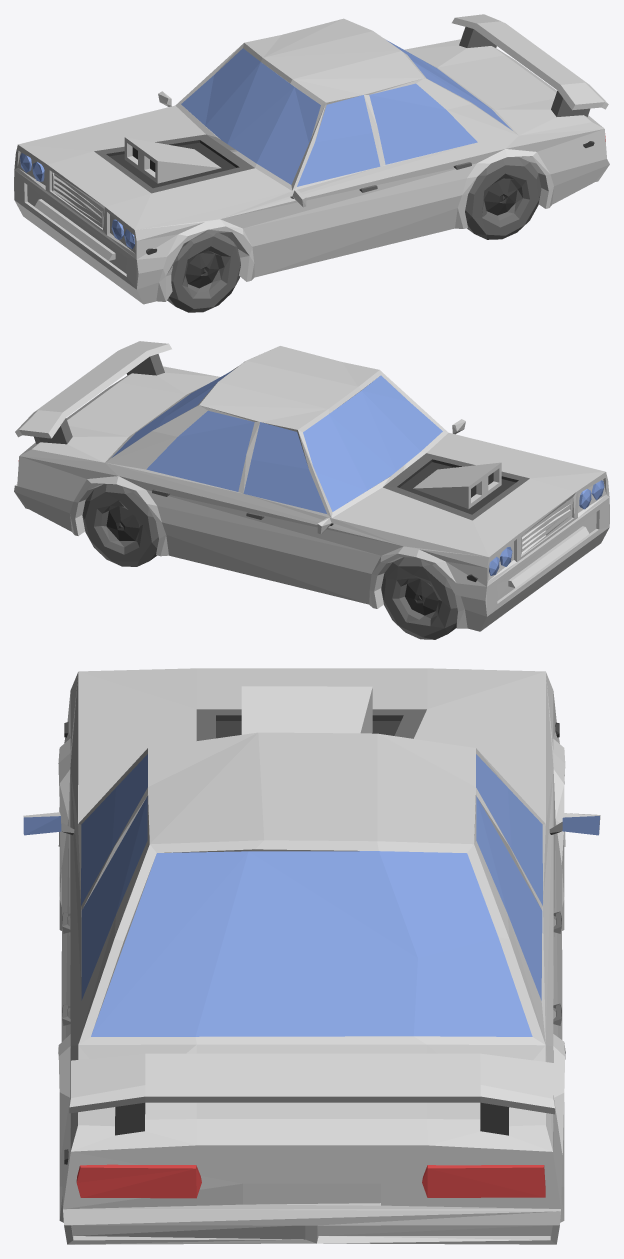
Rendered from carNoCop.glb.
3 views of the same model, one above another, from view 1: azimuth 30°, elevation 25°; view 2: azimuth 150°, elevation 25°; view 3: azimuth 270°, elevation 25° (orthographic). The views are drawn at different scales.
Visible parts, largest first — view 1: Машины.002; view 2: Машины.002; view 3: Машины.002.
Boxes of the visible parts, box(x1,y1,x2,y2) form: Машины.002: box(14, 14, 609, 312); Машины.002: box(14, 341, 609, 639); Машины.002: box(23, 668, 600, 1244).
Bounding box in the file's own units: 5.35 × 1.79 × 2.8.
